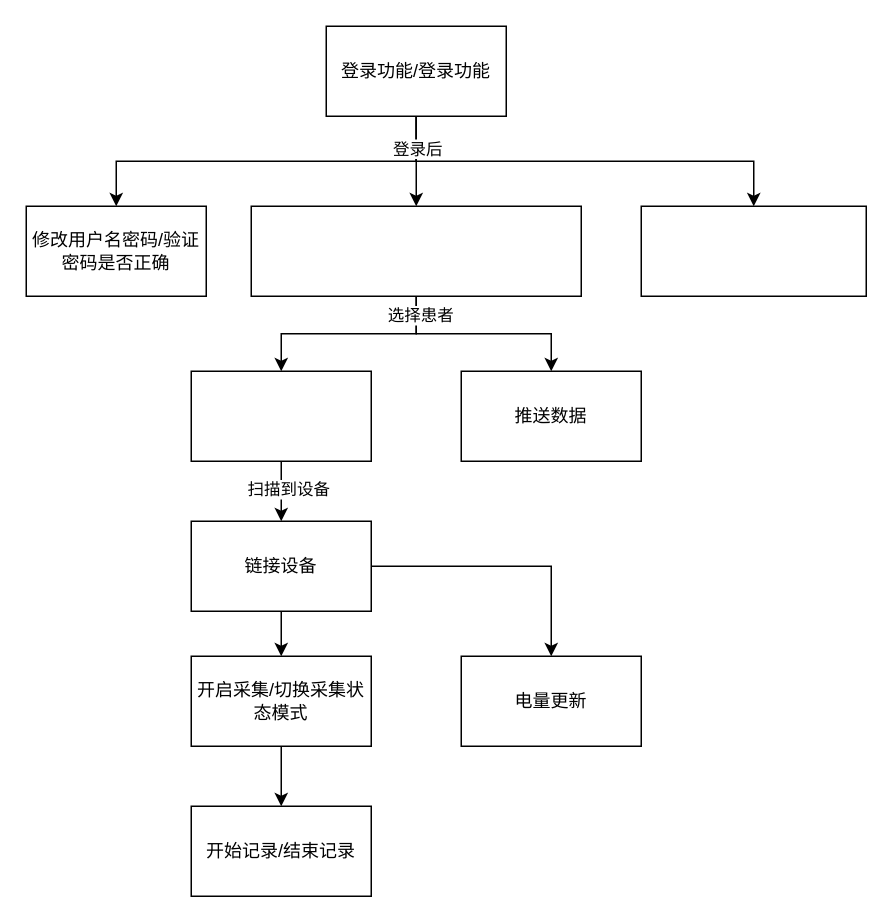
Some shapes in this 893 by 923 pixel diagram are drawn without their labels. The shapes that lost their labels are listed below. From the top down, each one's centre as x and y in pixels, then its label:
At (415,250): "患者列表查询/新增患者/删除患者/编辑患者/选择患者/查询选择的患者".
At (753,250): "记录删除/记录列表查询/记录重命名/记录导出".
At (280,415): "扫描/结束扫描".
